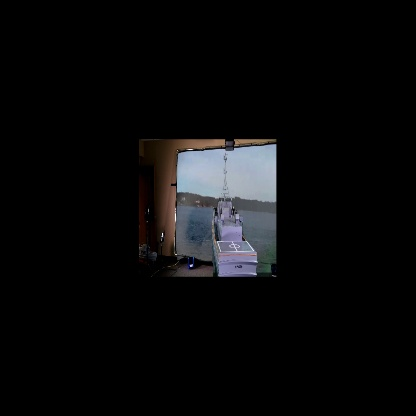YP689: (211, 157, 259, 276)
